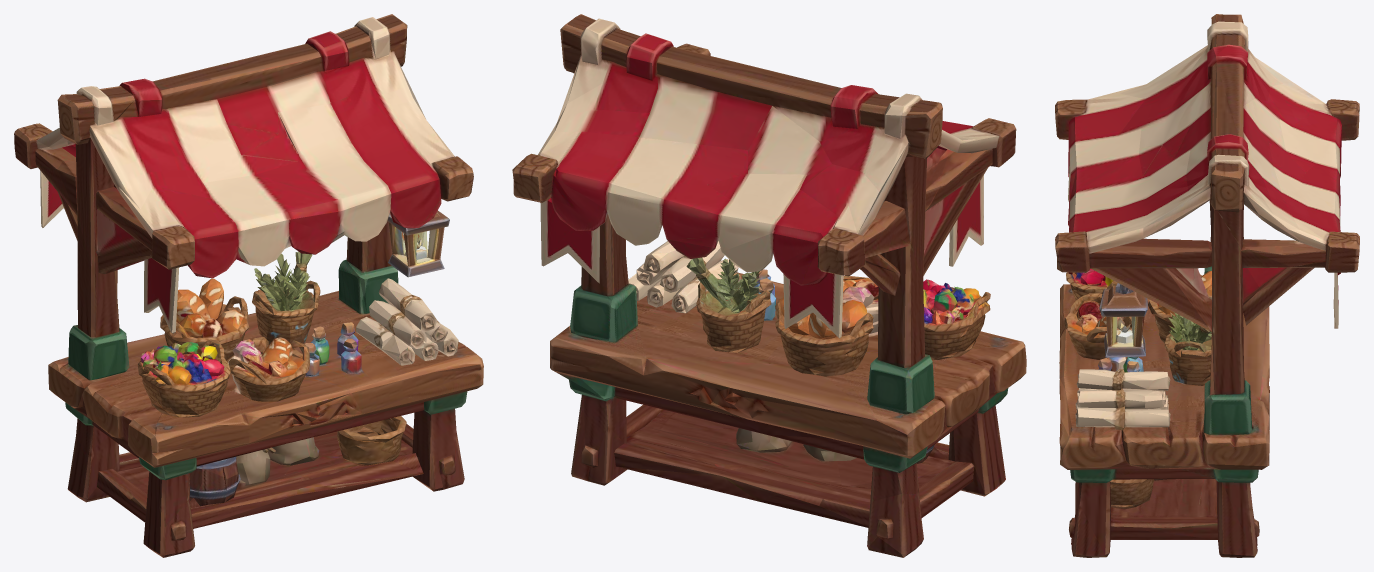
The model's file is market_stall.fbx.
3 views of the same model, side by side, from view 1: azimuth 30°, elevation 25°; view 2: azimuth 150°, elevation 25°; view 3: azimuth 270°, elevation 25° (orthographic). The views are drawn at different scales.
Parts seen in each view (by area): view 1: market_stall; view 2: market_stall; view 3: market_stall.
Part boxes in pixels (x1,y1,x2,y2): market_stall: (14,14,483,557); market_stall: (512,14,1026,557); market_stall: (1055,14,1359,557).
Bounding box in the file's own units: 3.66 × 4.2 × 2.93.
